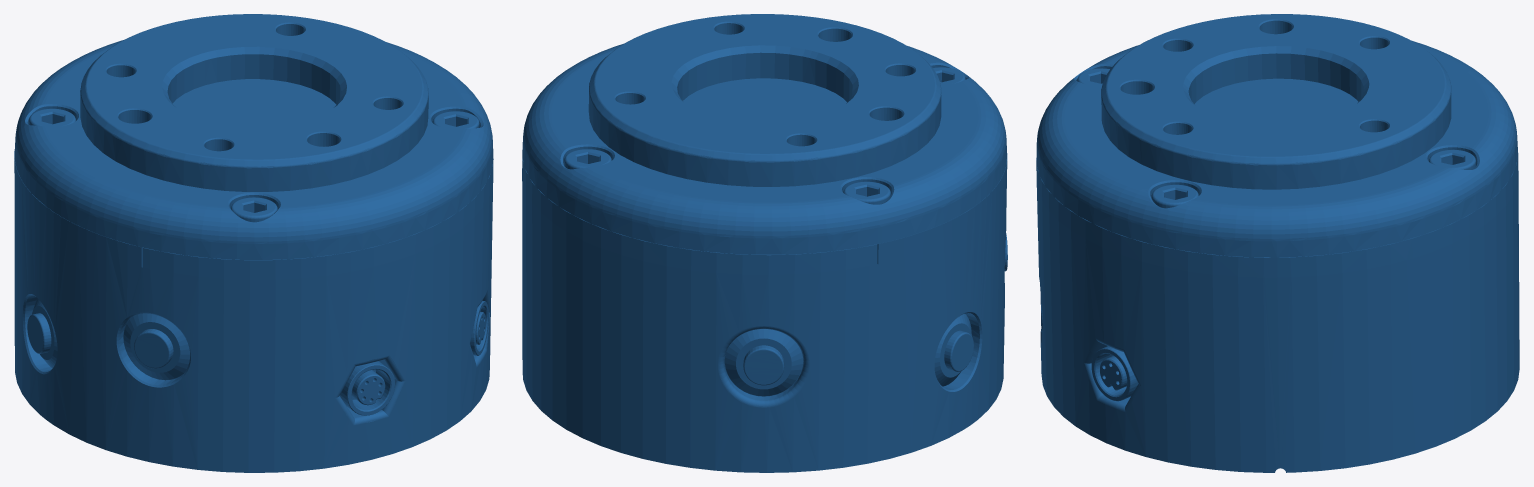
The model's file is OmronTM12XLink6.dae.
The picture shows the model from 3 angles, left to right: view 1: azimuth 30°, elevation 25°; view 2: azimuth 150°, elevation 25°; view 3: azimuth 270°, elevation 25°; orthographic projection.
Visible parts, largest first — view 1: omron_tm12xLink6; view 2: omron_tm12xLink6; view 3: omron_tm12xLink6.
Boxes of the visible parts, x1,y1,x2,y2 form: omron_tm12xLink6: [14, 14, 493, 472]; omron_tm12xLink6: [522, 14, 1007, 472]; omron_tm12xLink6: [1036, 14, 1519, 472].
Bounding box in the file's own units: 0.0781 × 0.0781 × 0.052.
